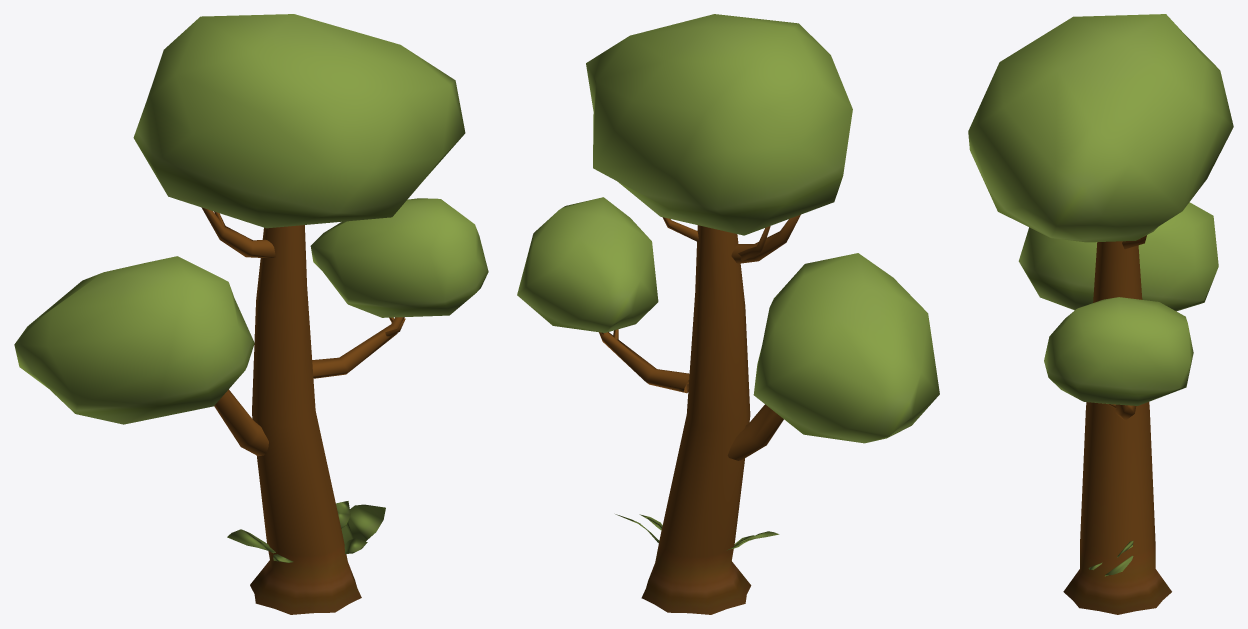
The model's file is Arvore1.glb.
3 renders of one model, left to right at view 1: azimuth 30°, elevation 25°; view 2: azimuth 150°, elevation 25°; view 3: azimuth 270°, elevation 25°, orthographic. The views are drawn at different scales.
Parts seen in each view (by area): view 1: Arvore1; view 2: Arvore1; view 3: Arvore1.
Part boxes in pixels (box(x1,y1,x2,y2)): Arvore1: box(14, 14, 488, 614); Arvore1: box(517, 14, 939, 614); Arvore1: box(968, 14, 1233, 614).
Size of the model in its own units: 8.16 by 10.76 by 4.75.
Materials: 1 (1 with a texture image).
